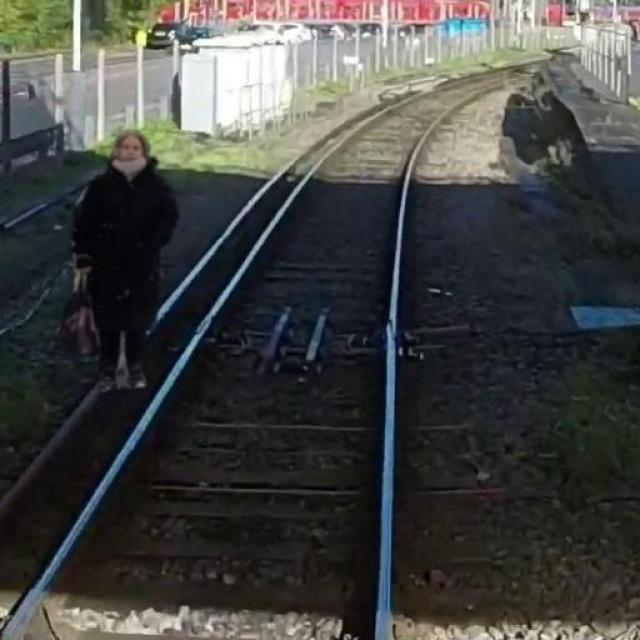people: (67, 126, 180, 406)
